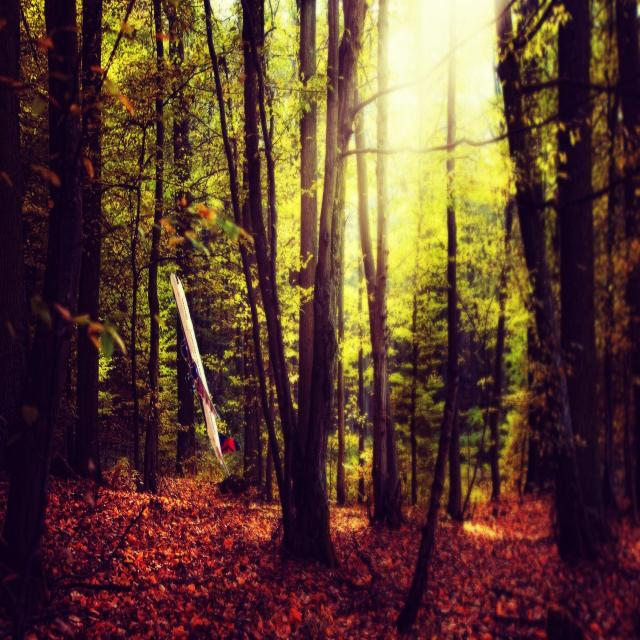airplane: (169, 272, 240, 477)
